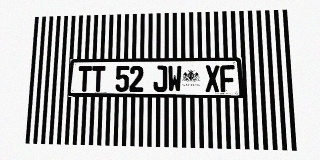2: (129, 66, 143, 92)
5: (115, 66, 129, 92)
F: (220, 65, 235, 92)
J: (153, 65, 167, 92)
T: (78, 66, 92, 92), (91, 66, 105, 92)
W: (168, 65, 182, 92)
X: (205, 65, 220, 92)
